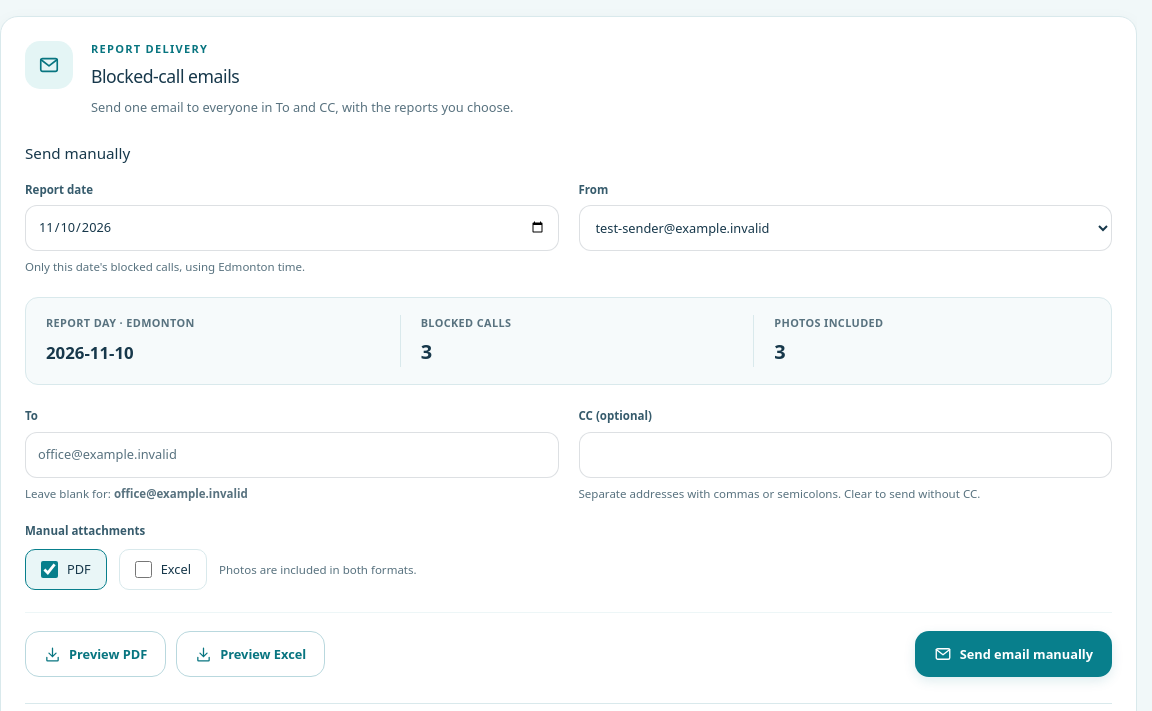
Test case: manual and automatic report email controls › uses the selected date for previews and sends both files with edited To and CC in one request
Type "2026-11-09" into the date field labelled "Report date" at (292, 228), box left=25, top=205, right=558, bottom=251
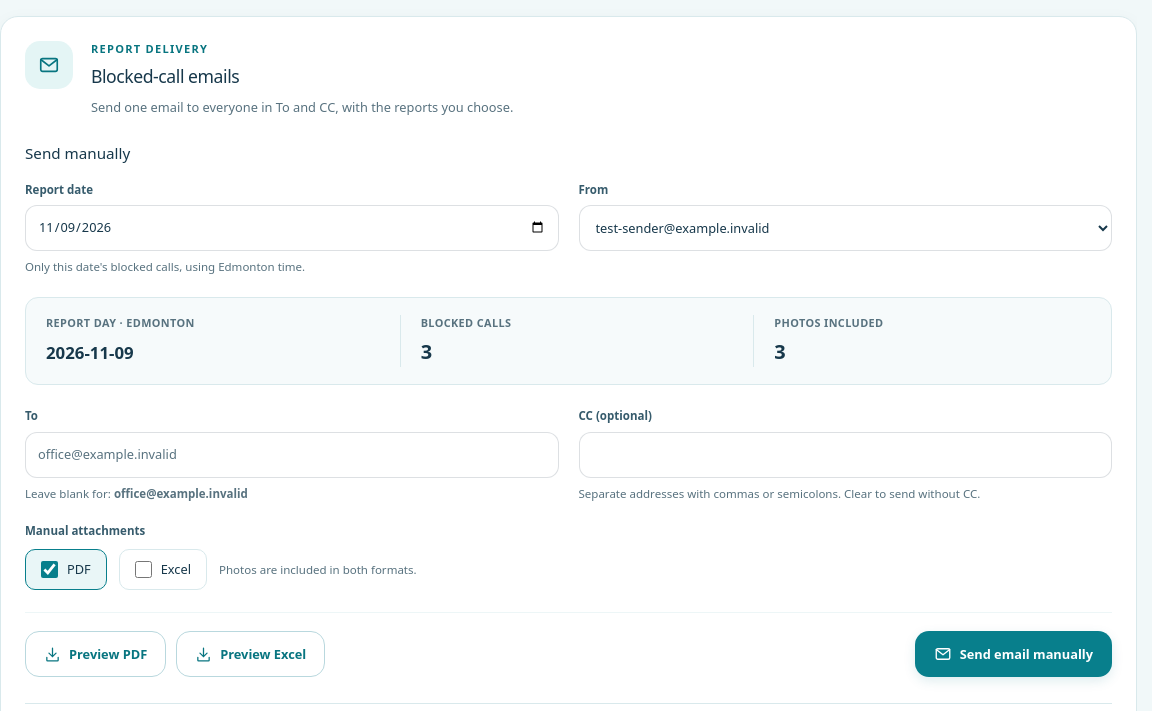
Type "one@example.invalid,two@example.invalid" into the field labelled "To" at (292, 455), box left=25, top=432, right=558, bottom=478
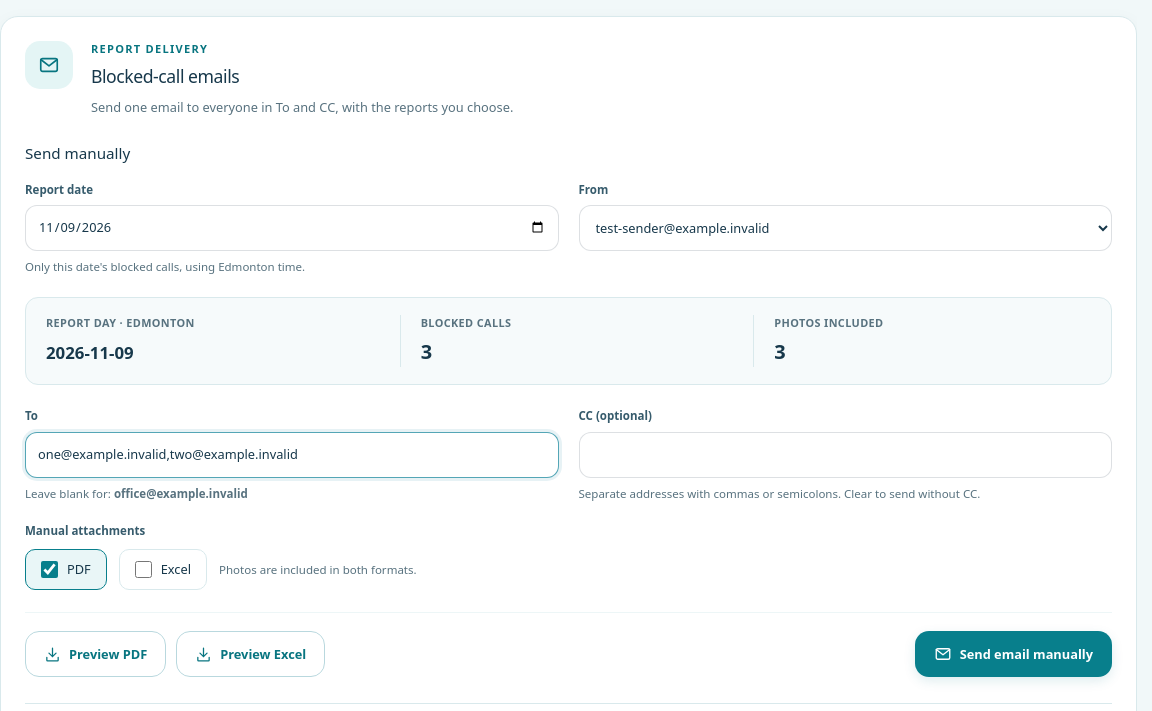
Type "copy@example.invalid" into the field labelled "CC (optional)" at (845, 455), box left=578, top=432, right=1112, bottom=478
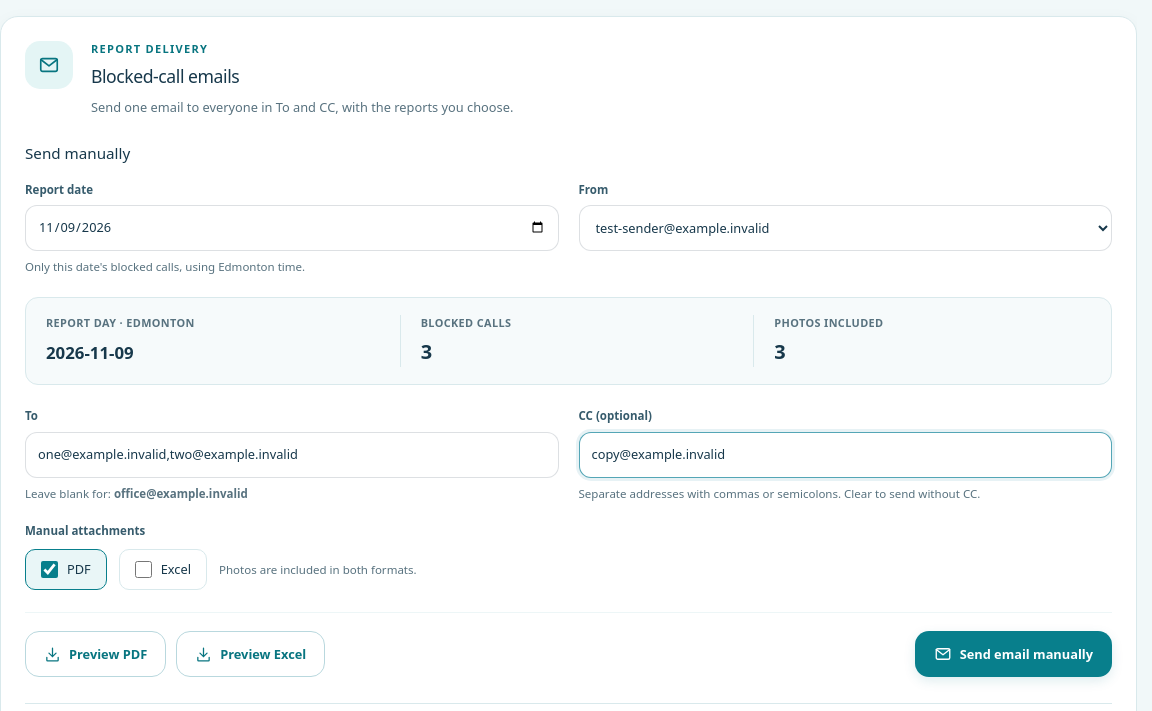
Select "alternate@example.invalid" in the dropdown labelled "From" at (845, 228), box left=578, top=205, right=1112, bottom=251
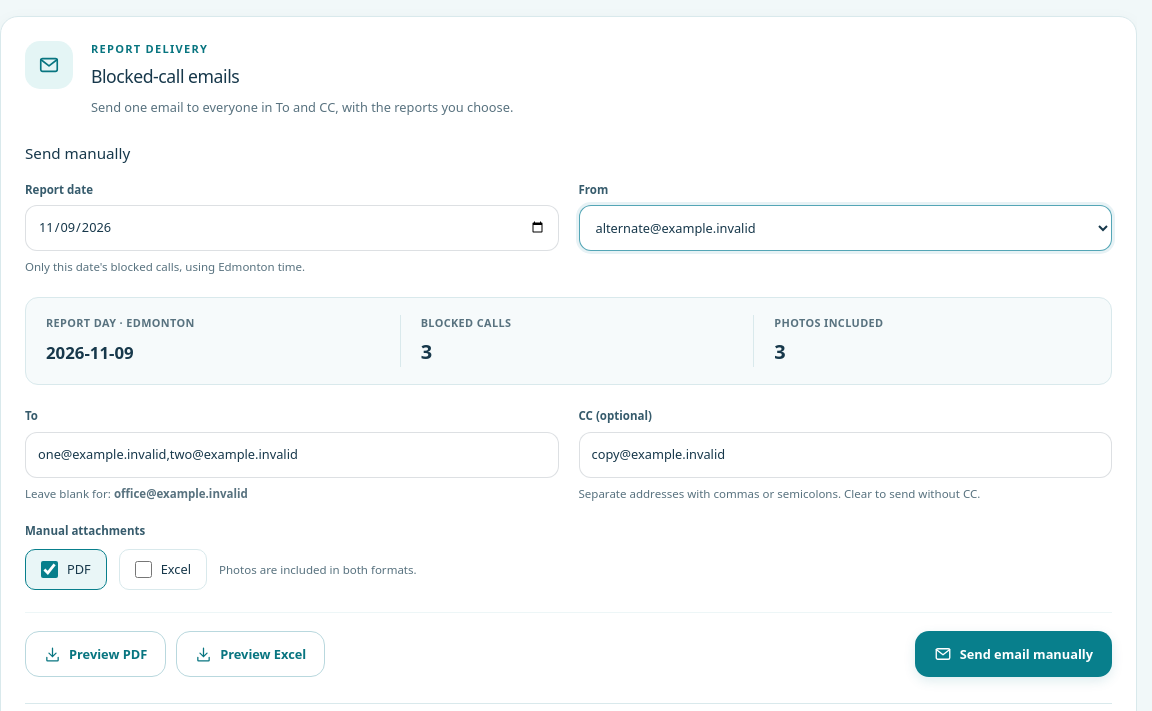
Click the checkbox labelled "Excel" at (143, 570), box left=135, top=561, right=152, bottom=578
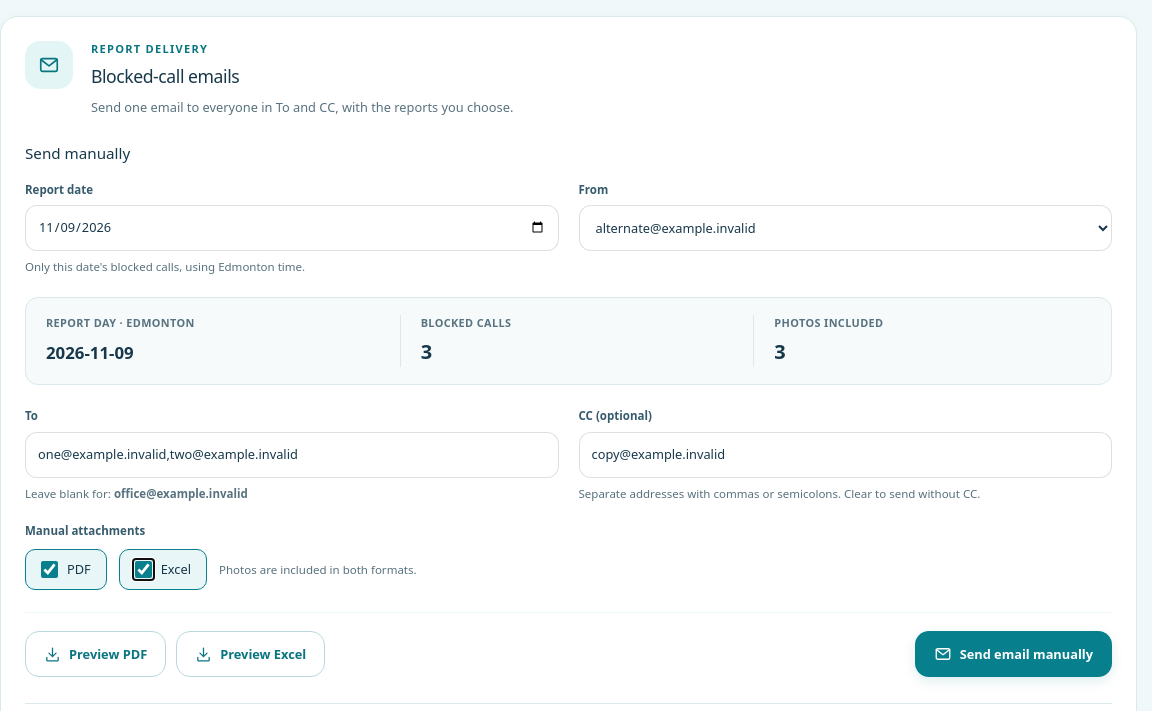
Click the button "Send email manually" at (1013, 654), box left=915, top=631, right=1112, bottom=677
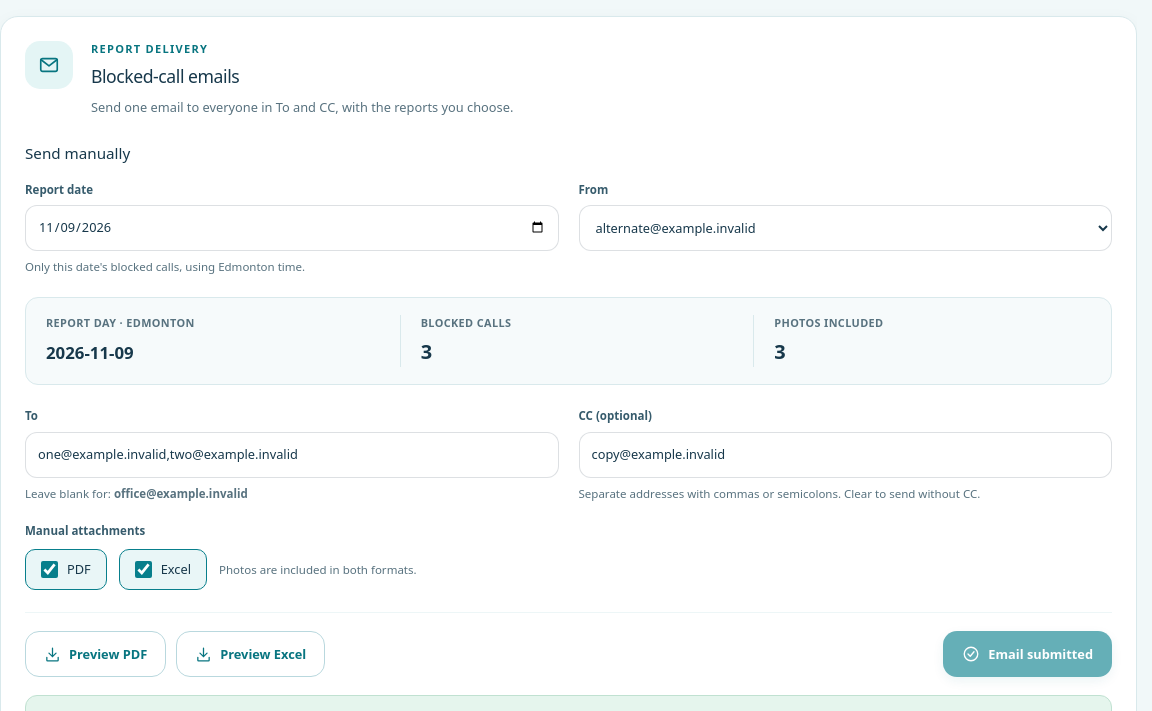
Now the button "Email submitted" is disabled, box left=943, top=631, right=1112, bottom=677
